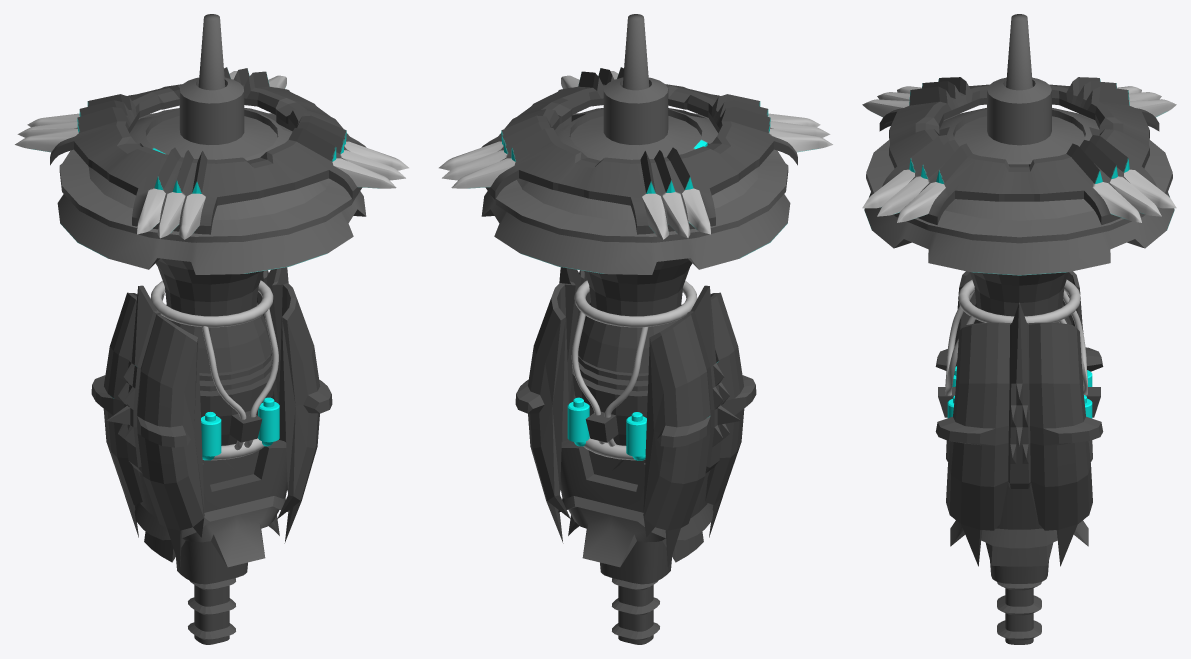
Rendered from msr.fbx.
The picture shows the model from 3 angles, left to right: view 1: azimuth 30°, elevation 25°; view 2: azimuth 150°, elevation 25°; view 3: azimuth 270°, elevation 25°; orthographic projection.
Visible parts, largest first — view 1: 对象003, Cylinder002, 对象004, 对象001, 对象002, Line002, 对象005, Cylinder006, Cylinder005; view 2: 对象003, Cylinder002, 对象004, 对象001, 对象002, Line002, 对象005, Cylinder003, Cylinder004; view 3: Cylinder002, 对象003, 对象004, 对象001, 对象002, Line002, 对象005.
Boxes of the visible parts, x1=… form: 对象003: x1=57, y1=14, x2=366, y2=274; Cylinder002: x1=91, y1=267, x2=332, y2=568; 对象004: x1=15, y1=67, x2=408, y2=239; 对象001: x1=134, y1=440, x2=289, y2=644; 对象002: x1=155, y1=258, x2=274, y2=445; Line002: x1=150, y1=280, x2=278, y2=460; 对象005: x1=176, y1=541, x2=247, y2=584; Cylinder006: x1=201, y1=412, x2=221, y2=460; Cylinder005: x1=258, y1=397, x2=279, y2=446; 对象003: x1=481, y1=14, x2=790, y2=274; Cylinder002: x1=515, y1=267, x2=756, y2=568; 对象004: x1=439, y1=67, x2=832, y2=239; 对象001: x1=558, y1=440, x2=713, y2=644; 对象002: x1=572, y1=258, x2=692, y2=445; Line002: x1=571, y1=280, x2=697, y2=460; 对象005: x1=600, y1=541, x2=671, y2=584; Cylinder003: x1=567, y1=397, x2=589, y2=446; Cylinder004: x1=626, y1=412, x2=646, y2=460; Cylinder002: x1=935, y1=271, x2=1103, y2=566; 对象003: x1=864, y1=14, x2=1174, y2=275; 对象004: x1=862, y1=77, x2=1176, y2=224; 对象001: x1=950, y1=487, x2=1088, y2=644; 对象002: x1=938, y1=272, x2=1100, y2=417; Line002: x1=945, y1=279, x2=1087, y2=395; 对象005: x1=990, y1=561, x2=1048, y2=583.
Size of the model in its own units: 68.32 by 149 by 68.32.
